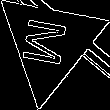M_E: (22, 17, 77, 70)
